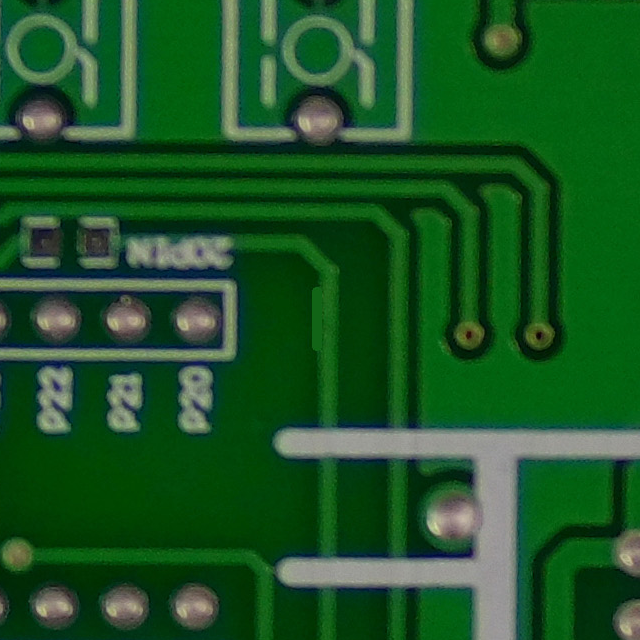spur: (291, 275, 350, 365)
